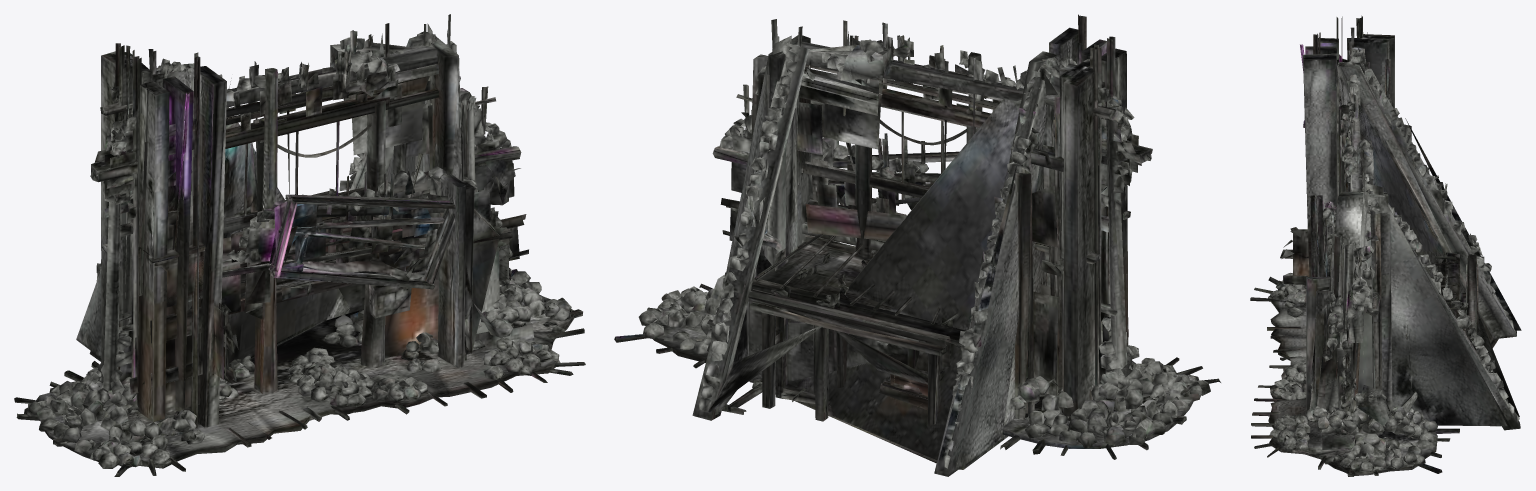
The model's file is burning-collapsed-facade.glb.
The picture shows the model from 3 angles, left to right: view 1: azimuth 30°, elevation 25°; view 2: azimuth 150°, elevation 25°; view 3: azimuth 270°, elevation 25°; orthographic projection. The views are drawn at different scales.
Visible parts, largest first — view 1: Mesh_0; view 2: Mesh_0; view 3: Mesh_0.
Boxes of the visible parts, bbox=[...] form: Mesh_0: bbox=[14, 14, 585, 476]; Mesh_0: bbox=[614, 14, 1220, 476]; Mesh_0: bbox=[1250, 15, 1521, 476].
Bounding box in the file's own units: 4.31 × 3 × 2.47.
1 material, 1 textured.
